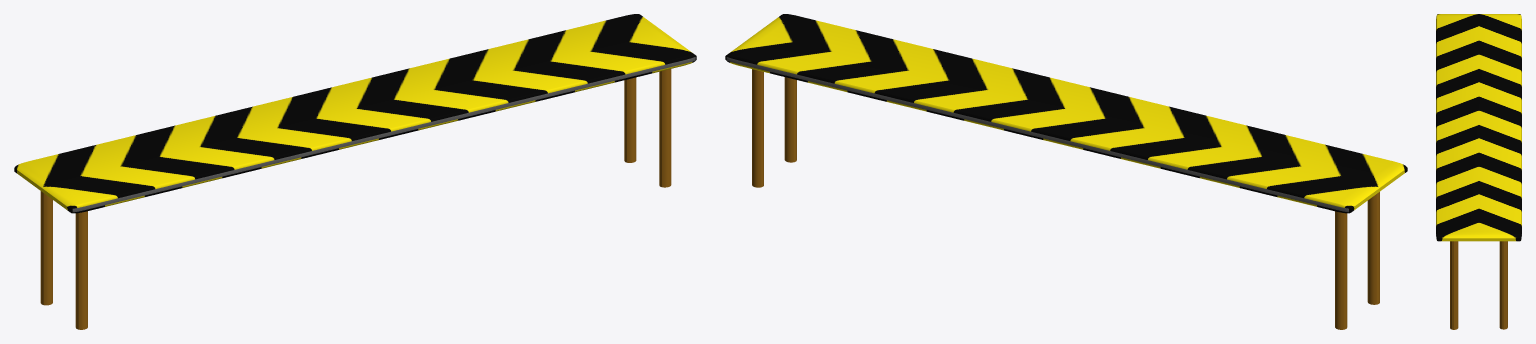
File: rayl_masa2.fbx
3 renders of one model, left to right at view 1: azimuth 30°, elevation 25°; view 2: azimuth 150°, elevation 25°; view 3: azimuth 270°, elevation 25°, orthographic. The views are drawn at different scales.
Visible parts, largest first — view 1: Cylinder.039; view 2: Cylinder.039; view 3: Cylinder.039.
Boxes of the visible parts, x1,y1,x2,y2 form: Cylinder.039: [14, 14, 696, 329]; Cylinder.039: [725, 14, 1407, 329]; Cylinder.039: [1436, 14, 1521, 329].
Size of the model in its own units: 173 by 35.6 by 27.95.
